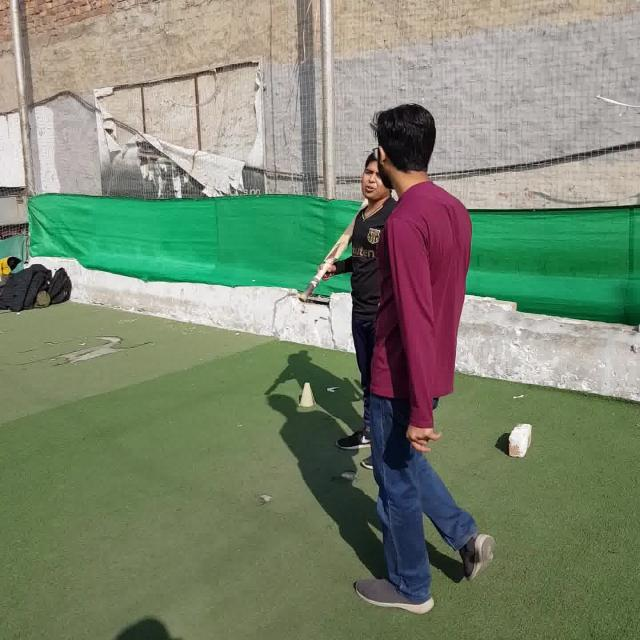bat: (298, 198, 371, 304)
